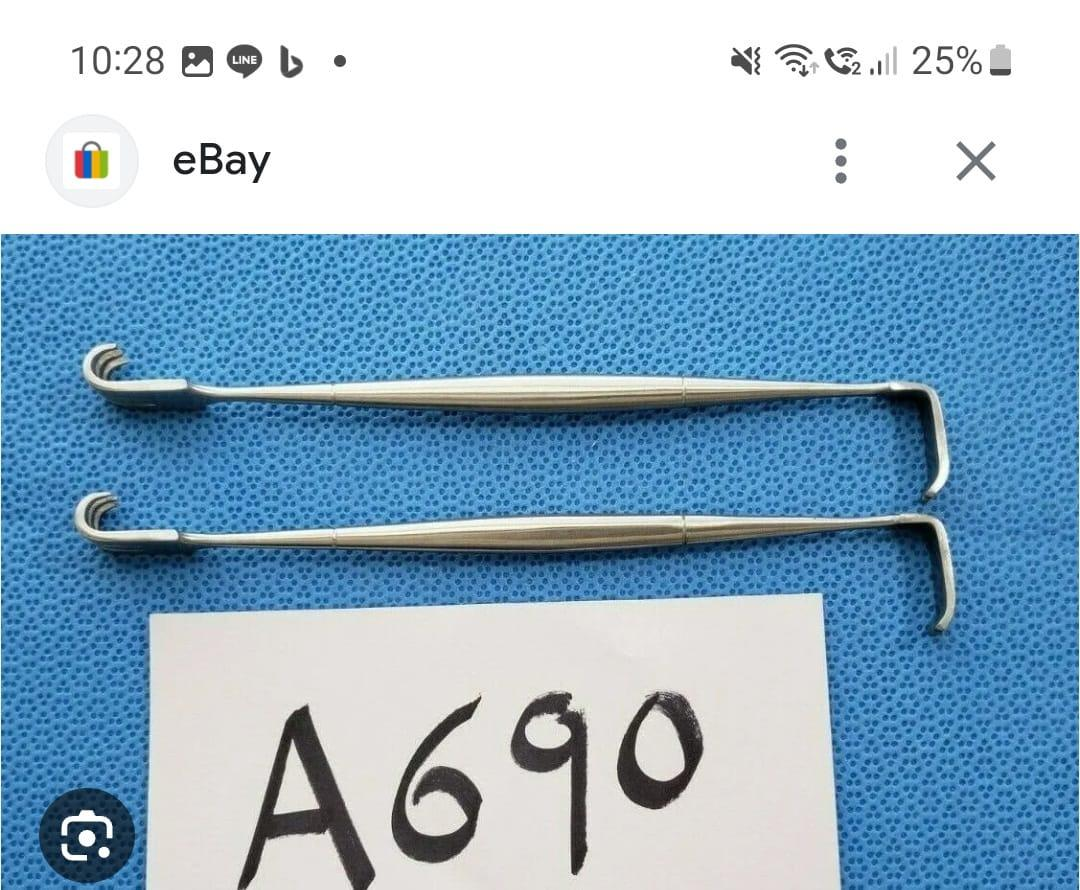Senn Retractor: (44, 463, 961, 649), (73, 321, 961, 501)
